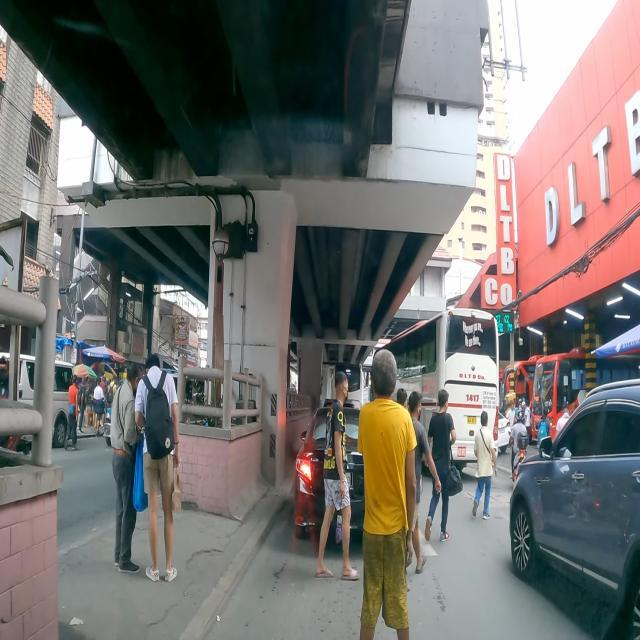bus: (366, 307, 500, 477), (523, 346, 640, 448), (331, 362, 364, 407)
car: (510, 380, 640, 640), (294, 406, 381, 548), (0, 350, 75, 446)
motorcycle: (509, 411, 529, 484)
